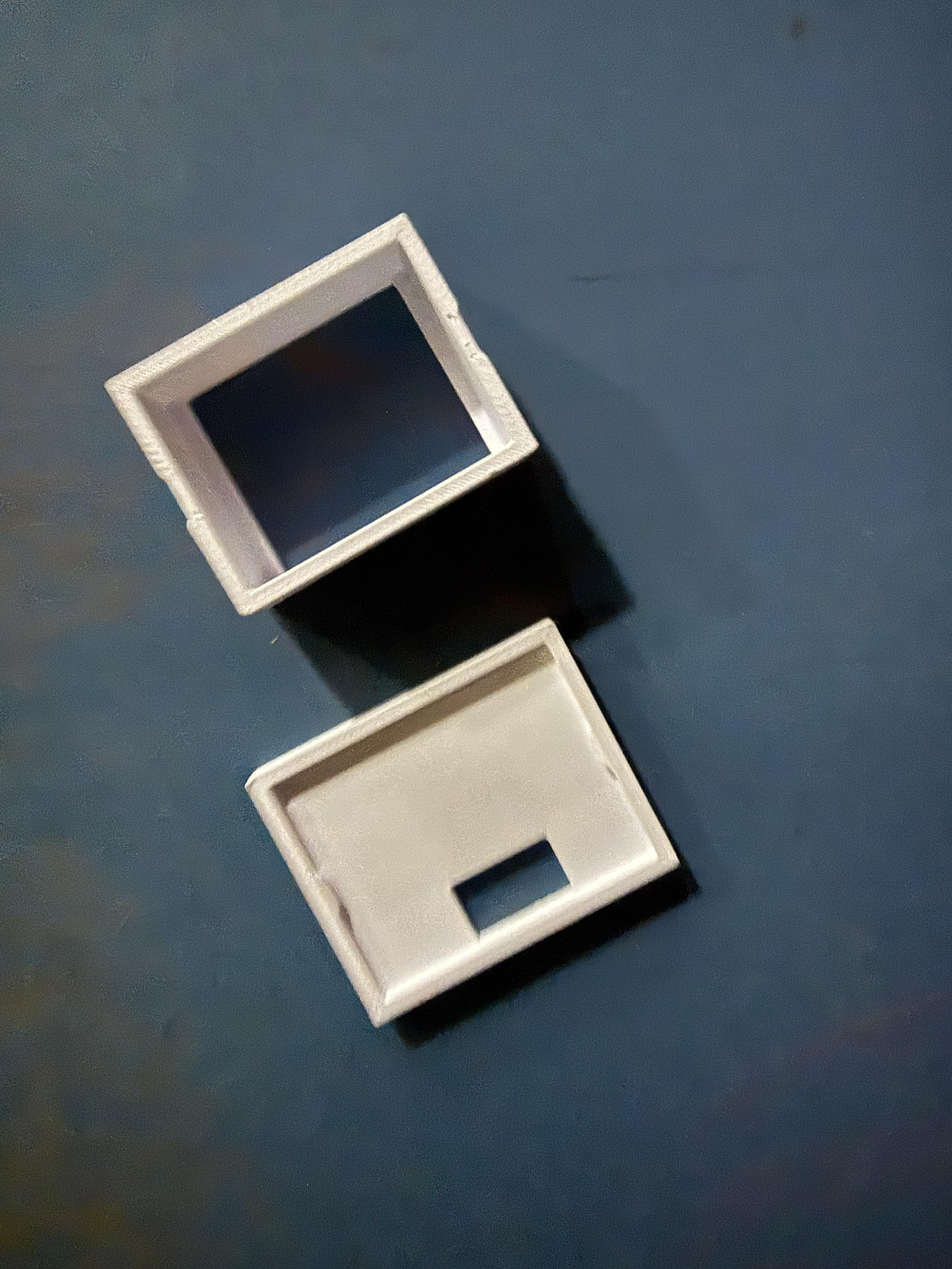enclosure: (245, 618, 682, 1027), (104, 212, 540, 617)
